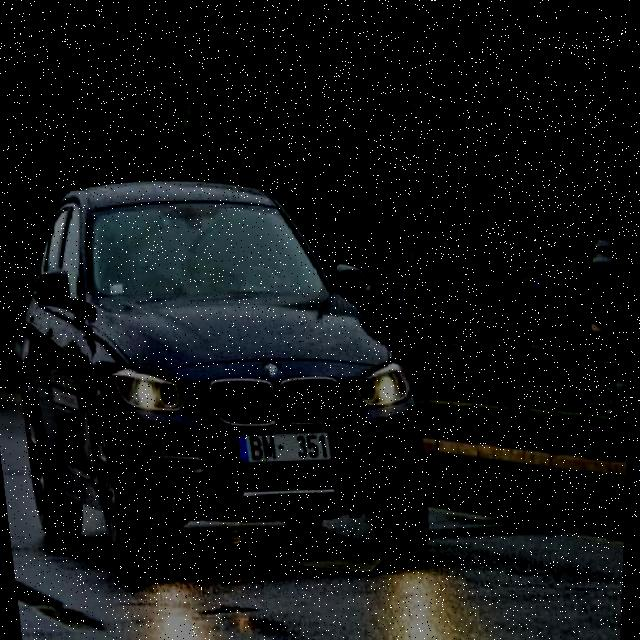license_plate: (235, 404, 338, 474)
